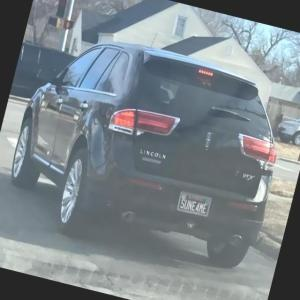Plate: (176, 190, 213, 218)
